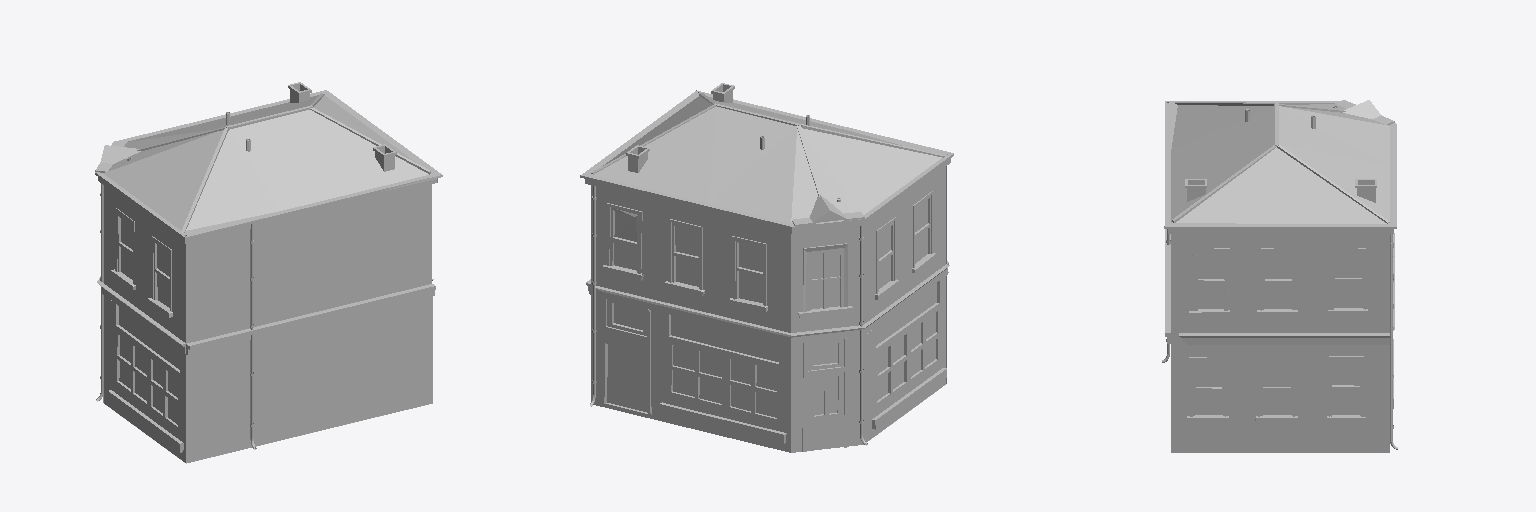
The model's file is Building1.obj.
3 renders of one model, left to right at view 1: azimuth 30°, elevation 25°; view 2: azimuth 150°, elevation 25°; view 3: azimuth 270°, elevation 25°, orthographic.
Parts seen in each view (by area): view 1: house_01; view 2: house_01; view 3: house_01.
Part boxes in pixels (x1,y1,x2,y2): house_01: (95,82,442,463); house_01: (580,83,953,452); house_01: (1162,100,1397,452).
Size of the model in its own units: 165 by 168 by 130.